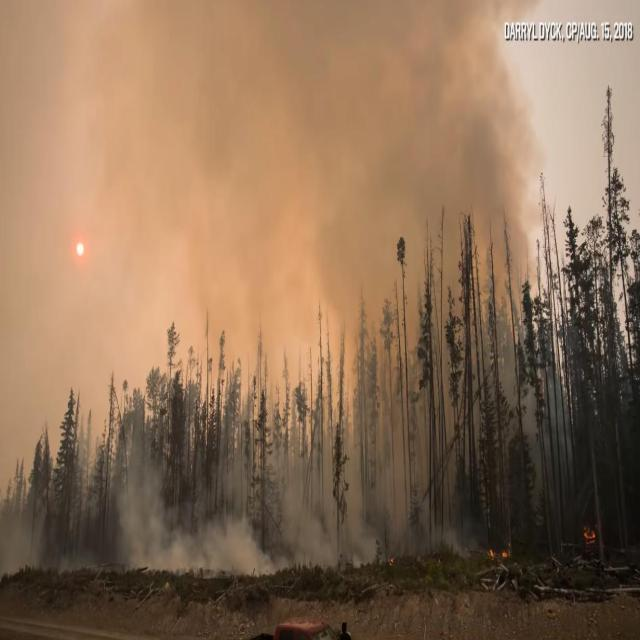Fire: (582, 524, 598, 544), (487, 547, 494, 560)
